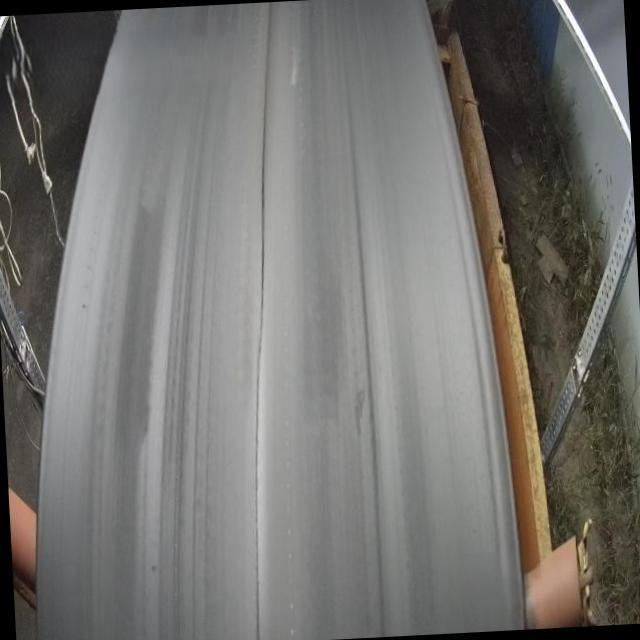Tear: (246, 0, 276, 640)
